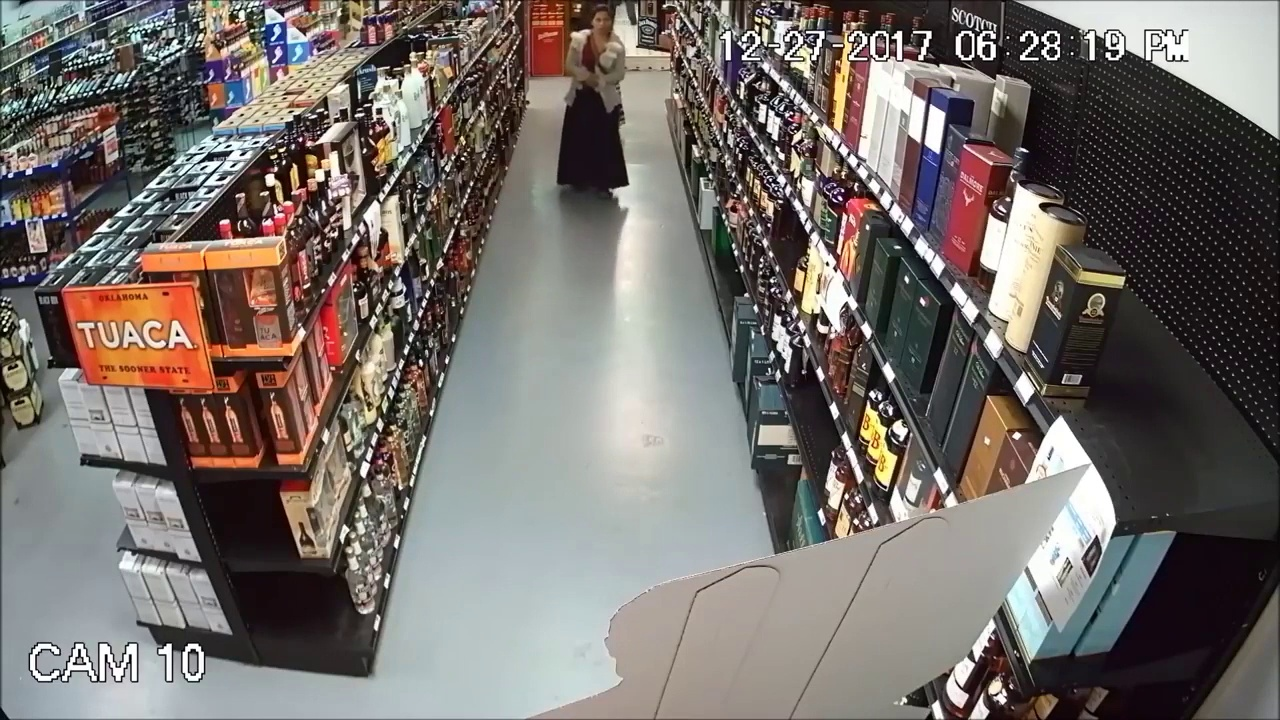face: (589, 13, 610, 36)
